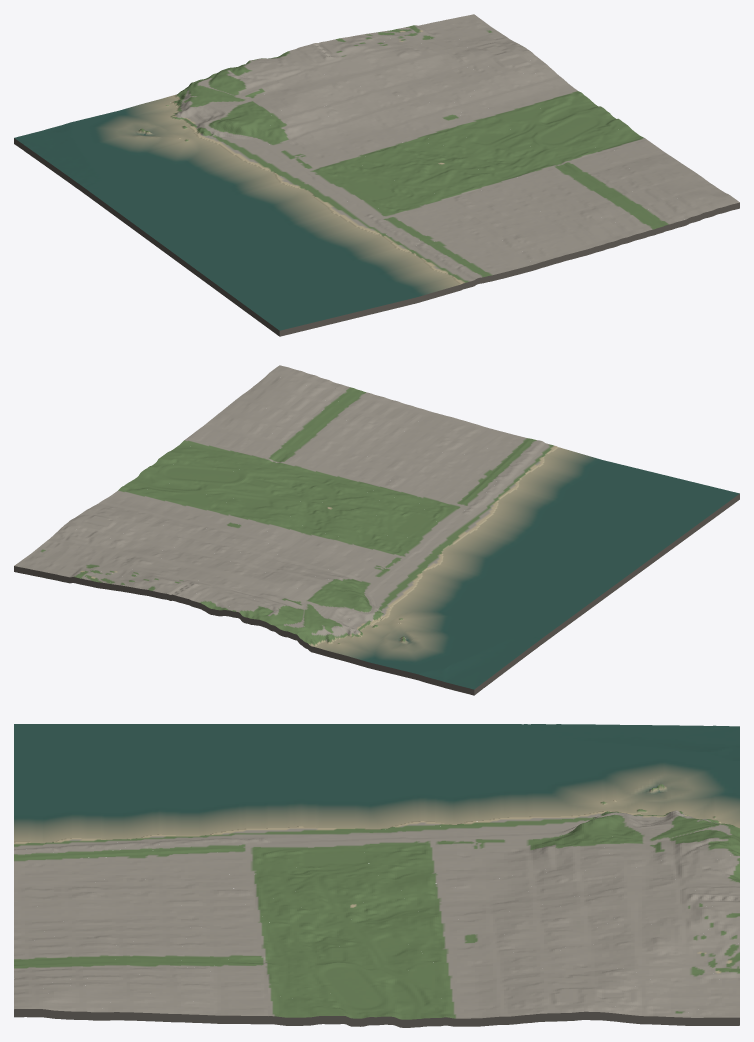
Rendered from terrain_0_3.glb.
3 views of the same model, one above another, from view 1: azimuth 30°, elevation 25°; view 2: azimuth 150°, elevation 25°; view 3: azimuth 270°, elevation 25° (orthographic). The views are drawn at different scales.
Visible parts, largest first — view 1: terrain_0_3; view 2: terrain_0_3; view 3: terrain_0_3.
Boxes of the visible parts, x1,y1,x2,y2 form: terrain_0_3: [14, 14, 739, 336]; terrain_0_3: [14, 365, 739, 695]; terrain_0_3: [14, 724, 739, 1027].
Bounding box in the file's own units: 3200 × 184 × 3200.
